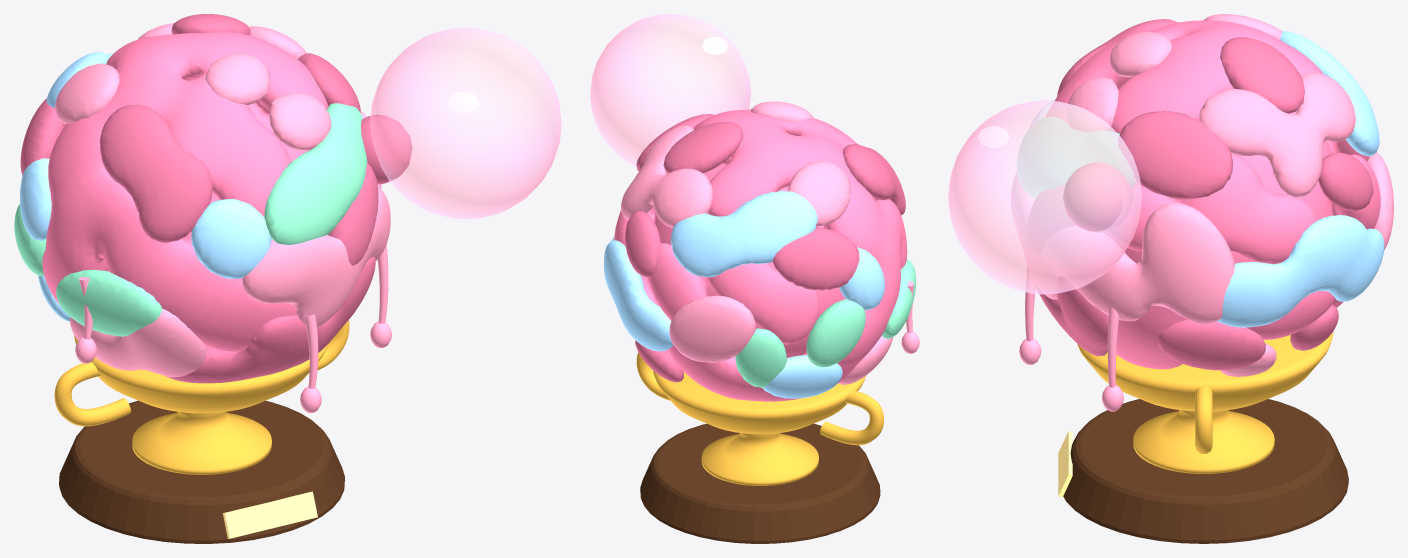
The model's file is chicle.glb.
The picture shows the model from 3 angles, left to right: view 1: azimuth 30°, elevation 25°; view 2: azimuth 150°, elevation 25°; view 3: azimuth 270°, elevation 25°; orthographic projection. The views are drawn at different scales.
Parts seen in each view (by area): view 1: chicle_bola_rosa, chicle_pompa, chicle_bola_oscuro, chicle_peana, chicle_bola_claro, chicle_bola_menta, chicle_copa, chicle_bola_azul, chicle_pompa_boca, chicle_placa, chicle_asa_izq, chicle_hilo_3 (+1 smaller); view 2: chicle_bola_rosa, chicle_peana, chicle_pompa, chicle_bola_azul, chicle_bola_claro, chicle_bola_oscuro, chicle_copa, chicle_bola_menta, chicle_asa_izq, chicle_asa_dcha; view 3: chicle_bola_claro, chicle_pompa, chicle_bola_rosa, chicle_peana, chicle_bola_oscuro, chicle_copa, chicle_bola_azul, chicle_bola_menta, chicle_pompa_boca, chicle_asa_dcha, chicle_placa, chicle_hilo_1 (+2 smaller).
Part boxes in pixels (<box>): chicle_bola_rosa: <box>42,32,328,351</box>; chicle_pompa: <box>370,27,561,219</box>; chicle_bola_oscuro: <box>20,14,378,383</box>; chicle_peana: <box>59,400,344,543</box>; chicle_bola_claro: <box>55,23,390,377</box>; chicle_bola_menta: <box>14,103,367,336</box>; chicle_copa: <box>74,335,327,474</box>; chicle_bola_azul: <box>20,52,271,321</box>; chicle_pompa_boca: <box>361,114,412,184</box>; chicle_placa: <box>223,491,317,538</box>; chicle_asa_izq: <box>54,362,130,426</box>; chicle_hilo_3: <box>305,314,318,388</box>; chicle_bola_rosa: <box>614,110,907,401</box>; chicle_peana: <box>640,423,880,543</box>; chicle_pompa: <box>590,14,750,167</box>; chicle_bola_azul: <box>603,191,884,398</box>; chicle_bola_claro: <box>621,101,892,384</box>; chicle_bola_oscuro: <box>625,114,905,382</box>; chicle_copa: <box>653,370,865,485</box>; chicle_bola_menta: <box>735,259,915,387</box>; chicle_asa_izq: <box>820,390,883,445</box>; chicle_asa_dcha: <box>636,352,670,400</box>; chicle_bola_claro: <box>1011,14,1393,376</box>; chicle_pompa: <box>948,100,1142,294</box>; chicle_bola_rosa: <box>1046,20,1380,369</box>; chicle_peana: <box>1063,399,1348,543</box>; chicle_bola_oscuro: <box>1028,19,1373,370</box>; chicle_copa: <box>1077,332,1333,473</box>; chicle_bola_azul: <box>1030,31,1384,327</box>; chicle_bola_menta: <box>1017,117,1135,198</box>; chicle_pompa_boca: <box>1063,163,1132,231</box>; chicle_asa_dcha: <box>1195,387,1212,453</box>; chicle_placa: <box>1058,431,1072,497</box>; chicle_hilo_1: <box>1107,307,1119,387</box>.
Size of the model in its own units: 0.3398 by 0.3497 by 0.3031.
